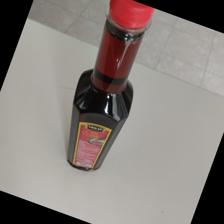Namngu: (67, 1, 155, 171)
